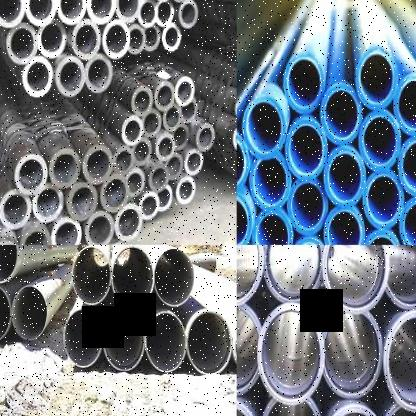pipe: (257, 302, 325, 406), (322, 309, 383, 398), (322, 245, 389, 314), (383, 309, 416, 413), (263, 245, 324, 301), (186, 309, 234, 376), (110, 245, 155, 310), (242, 94, 286, 160), (102, 307, 146, 373), (143, 310, 188, 374), (355, 46, 398, 110), (320, 81, 362, 145), (152, 247, 196, 308), (324, 146, 366, 209), (285, 119, 328, 180), (358, 111, 401, 171), (70, 245, 112, 306), (63, 307, 104, 369), (249, 153, 292, 212), (284, 51, 324, 114), (363, 171, 404, 229), (9, 283, 49, 342), (288, 179, 328, 236), (237, 304, 261, 396), (384, 245, 416, 309), (13, 151, 50, 198), (237, 245, 264, 307), (4, 20, 38, 68), (324, 206, 365, 245), (252, 209, 294, 245), (68, 18, 103, 61), (65, 180, 99, 224), (70, 16, 102, 62), (80, 144, 115, 186), (32, 183, 66, 226), (21, 56, 55, 99), (48, 148, 82, 190), (99, 172, 132, 215), (0, 188, 32, 232), (54, 55, 86, 99), (36, 20, 70, 61), (394, 74, 416, 136), (112, 204, 146, 244), (83, 54, 114, 96), (259, 397, 323, 416), (102, 20, 131, 61), (83, 209, 116, 245), (24, 0, 57, 30), (51, 216, 83, 245), (398, 195, 416, 245), (54, 0, 88, 26), (0, 281, 13, 344), (112, 144, 135, 178), (173, 74, 196, 108), (0, 0, 26, 30), (86, 0, 116, 26), (237, 129, 249, 194), (237, 193, 252, 245), (137, 190, 160, 223), (0, 245, 19, 284), (130, 85, 153, 117), (153, 80, 176, 112), (121, 114, 142, 148), (161, 22, 183, 54), (177, 0, 200, 30), (320, 406, 388, 416), (114, 0, 141, 25), (125, 166, 146, 198), (360, 229, 402, 245), (19, 225, 52, 245), (154, 132, 176, 162), (176, 173, 196, 206), (141, 109, 162, 139), (127, 22, 145, 56), (161, 104, 182, 133), (131, 137, 151, 167), (155, 183, 174, 214), (137, 0, 158, 28), (195, 123, 215, 152), (182, 149, 204, 175), (149, 165, 169, 193), (166, 152, 184, 182), (179, 97, 199, 124), (381, 401, 416, 416), (143, 24, 161, 53), (173, 124, 191, 153), (156, 0, 174, 27), (0, 239, 23, 245), (232, 122, 236, 153), (103, 241, 131, 245), (233, 91, 236, 122)
